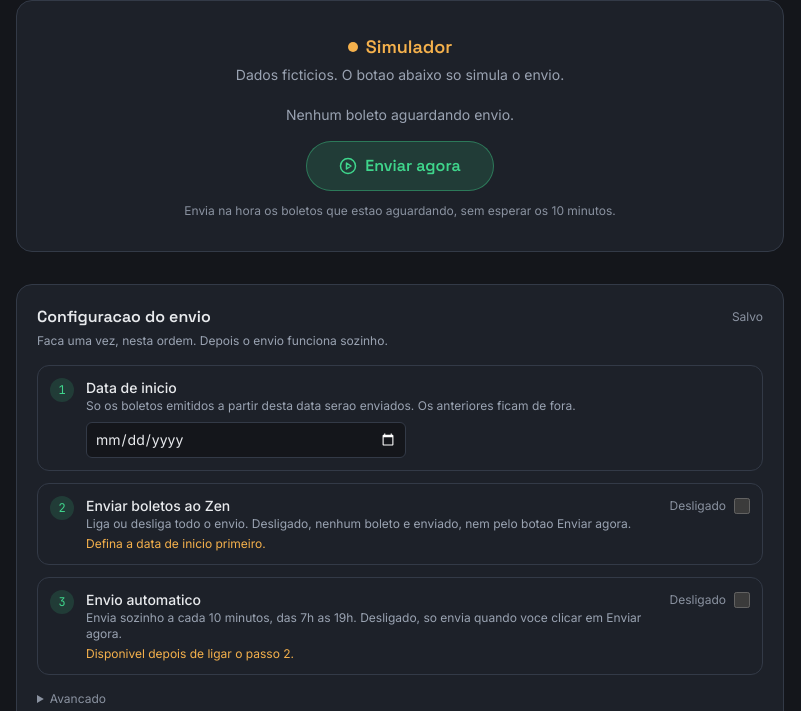
Activate › ao clicar em Enviar agora, executa e mostra enviados e nao enviados
Expected: the text "Nenhum boleto aguardando envio." is shown, [286, 106, 514, 123]
Step 1. Click the button "Enviar agora" → {"x": 400, "y": 166}, box [306, 141, 494, 191]
(page scrolled)
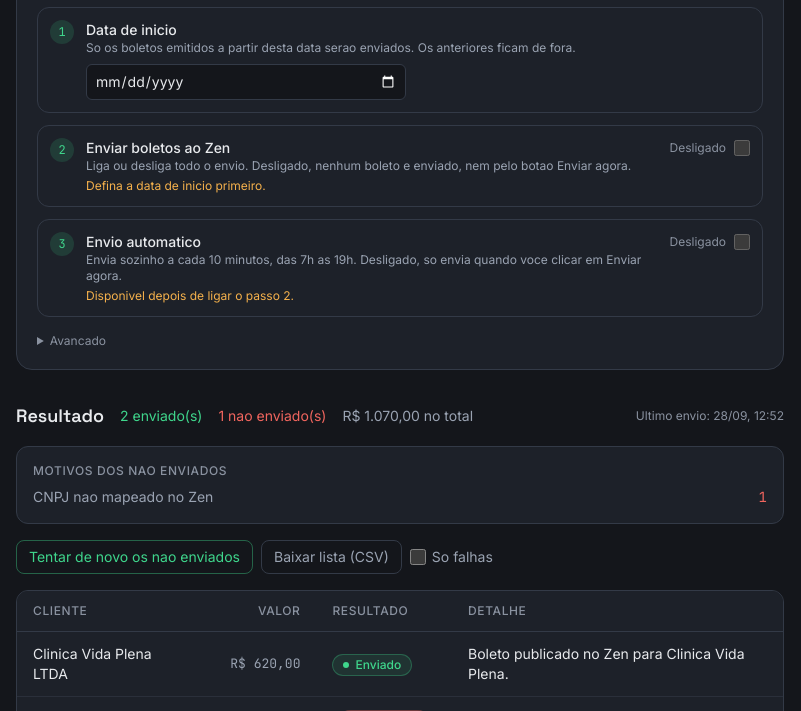
Expected: the heading "Resultado" is shown, [16, 402, 104, 430]
Expected: the text "CNPJ nao mapeado no Zen" is shown, [33, 487, 213, 507]
